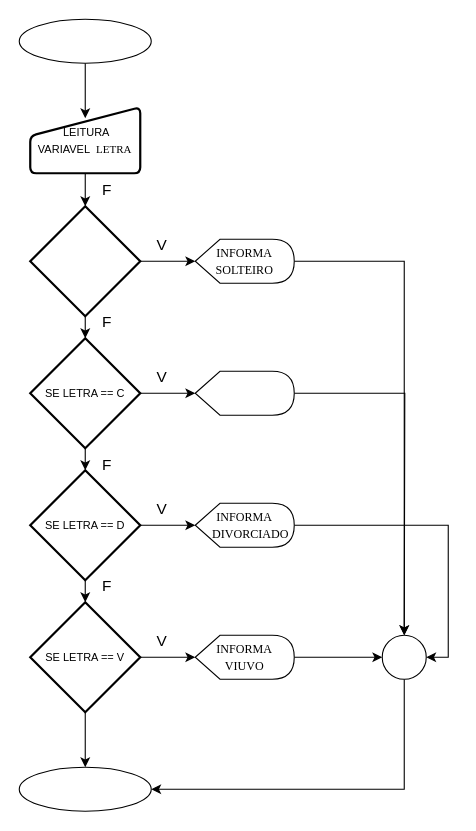
Image size: 476x831. Some labels were removed from this diagram. The centre of each missing label's shape, as x and y in pixels:
"FIM" goes at point (84, 788).
"INFORMA CASADO" goes at point (244, 392).
"INÍCIO" goes at point (84, 40).
"SE LETRA == S" goes at point (85, 261).
